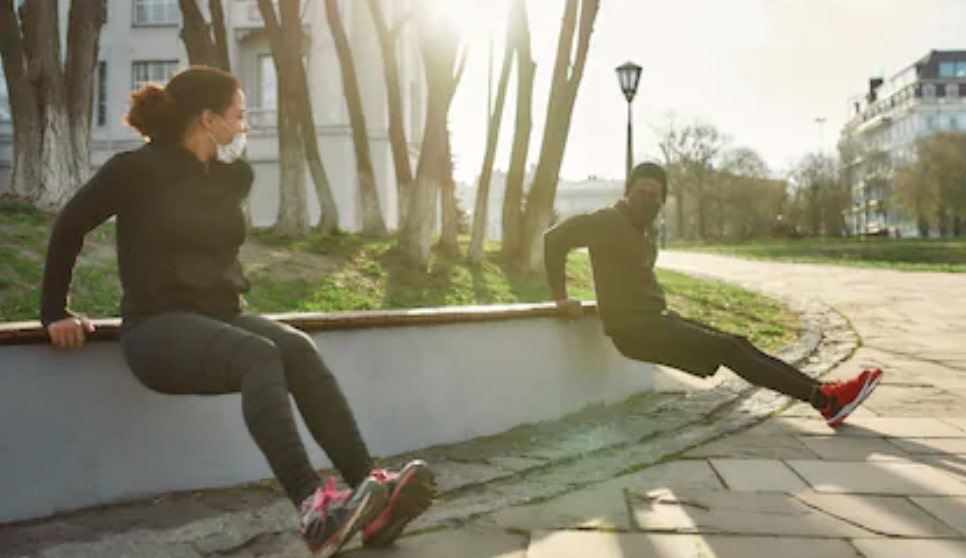Good: (40, 65, 882, 557)
